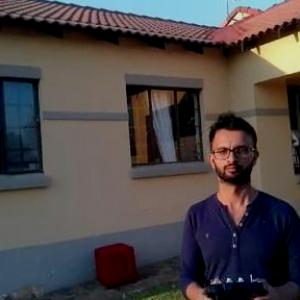follow: (173, 100, 300, 299)
null: (1, 268, 57, 299)
